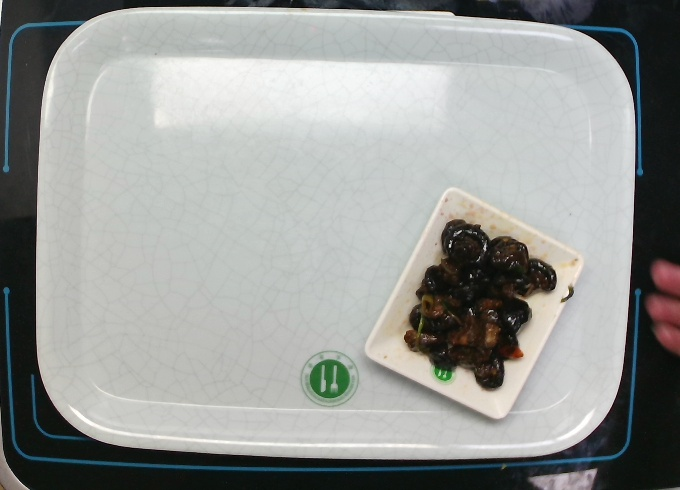WCQzf-Bai_Se_Si_Fang_Die: (357, 179, 588, 421)
